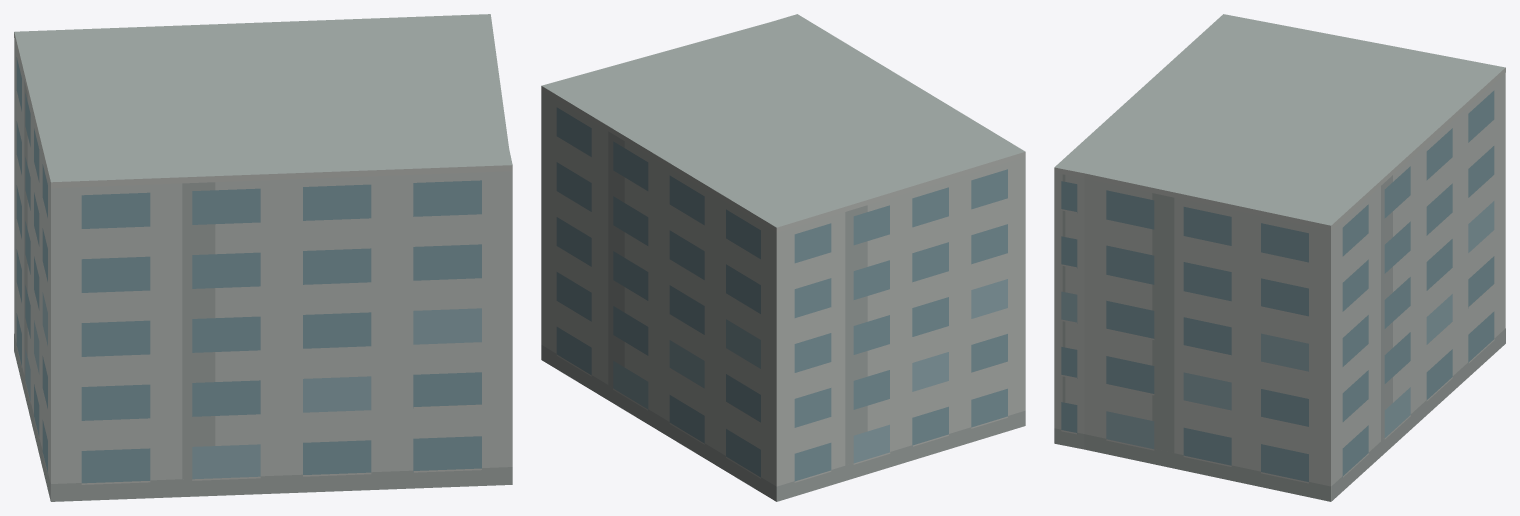
The model's file is survey-upis-32867917.glb.
The picture shows the model from 3 angles, left to right: view 1: azimuth 30°, elevation 25°; view 2: azimuth 150°, elevation 25°; view 3: azimuth 270°, elevation 25°; orthographic projection. The views are drawn at different scales.
Parts seen in each view (by area): view 1: survey-upis-32867917.tmp; view 2: survey-upis-32867917.tmp; view 3: survey-upis-32867917.tmp.
Boxes of the visible parts, left/top/right/bottom form: survey-upis-32867917.tmp: left=14, top=14, right=512, bottom=501; survey-upis-32867917.tmp: left=541, top=14, right=1025, bottom=501; survey-upis-32867917.tmp: left=1054, top=14, right=1505, bottom=501.
Bounding box in the file's own units: 21.05 × 12.8 × 18.97.
